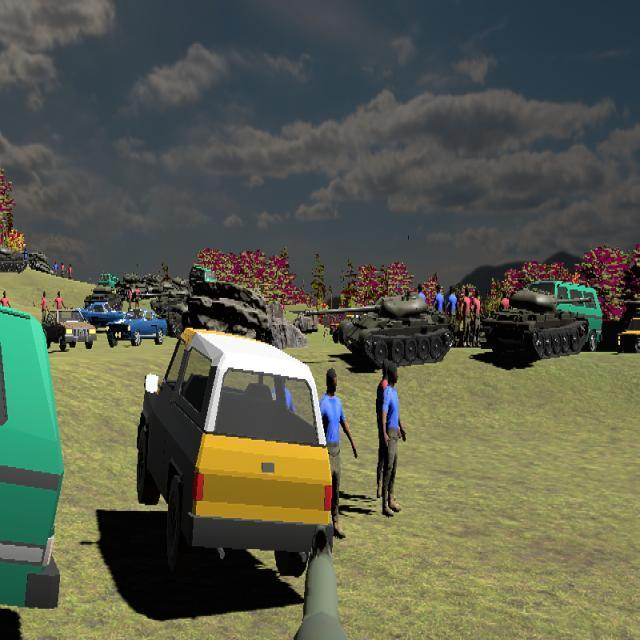Human: (317, 366, 358, 540), (378, 361, 406, 516), (460, 287, 474, 347)
Tank: (299, 295, 454, 369), (481, 288, 597, 361), (0, 245, 30, 274)
car: (135, 332, 335, 580), (0, 286, 65, 633), (39, 307, 97, 351), (107, 307, 168, 347), (76, 301, 126, 331), (617, 313, 640, 355)
